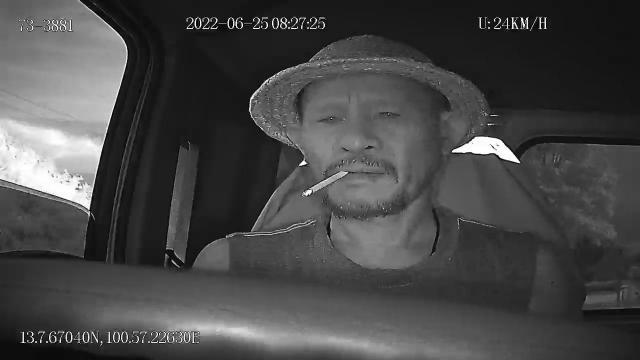SafeDriving: (5, 1, 89, 41), (368, 100, 407, 126), (310, 105, 350, 129)
Smoking: (301, 169, 349, 199)
